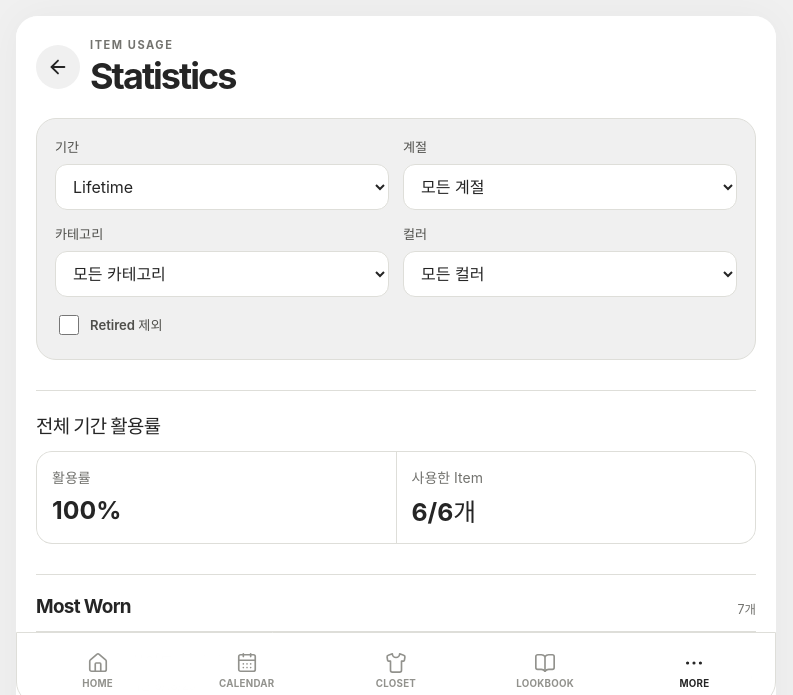
Test: StatisticsPage Phase 4 item usage › Retired 제외 선택을 전체 Item 보기까지 전달하고 Retired Item을 숨긴다
Expected: the heading "전체 기간 활용률" is shown, top-left (36, 411), bottom-right (160, 438)
Expected: the text "7개" is shown, top-left (738, 600), bottom-right (756, 618)
Click the checkbox labelled "Retired 제외" at (69, 325), box top-left (59, 315), bottom-right (79, 335)
(page scrolled)
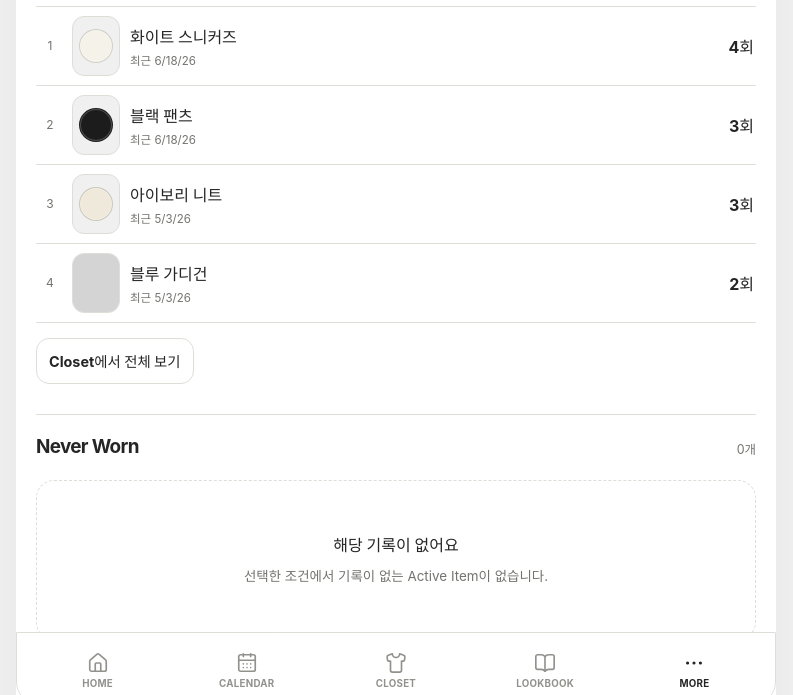
Expected: the link "Closet에서 전체 보기" has attribute href="/statistics/items?result=most-worn&period=lifetime&excludeRetired=true"
Click the link "Closet에서 전체 보기" at (115, 361), box top-left (36, 338), bottom-right (194, 384)
(page scrolled)
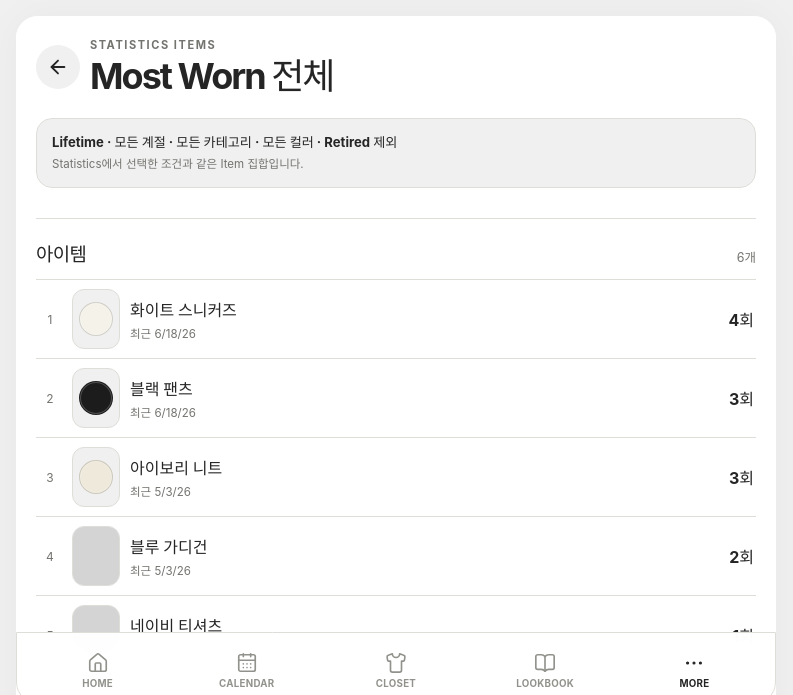
Expected: the element named "적용된 통계 조건" shows "Lifetime · 모든 계절 · 모든 카테고리 · 모든 컬러 · Retired 제외", top-left (52, 134), bottom-right (397, 150)
